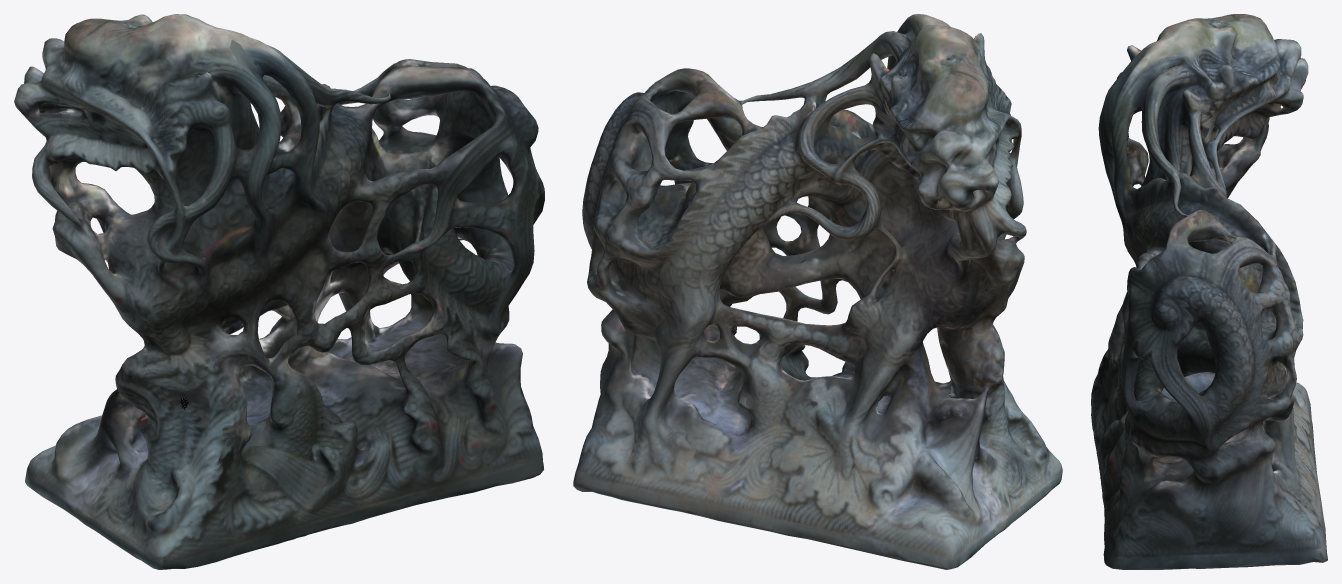
3 renders of one model, left to right at view 1: azimuth 30°, elevation 25°; view 2: azimuth 150°, elevation 25°; view 3: azimuth 270°, elevation 25°, orthographic. The views are drawn at different scales.
Visible parts, largest first — view 1: dragon2_LOW15K_b; view 2: dragon2_LOW15K_b; view 3: dragon2_LOW15K_b.
Boxes of the visible parts, <box> form: dragon2_LOW15K_b: <box>14,14,544,569</box>; dragon2_LOW15K_b: <box>573,14,1062,569</box>; dragon2_LOW15K_b: <box>1091,14,1327,569</box>.
Bounding box in the file's own units: 14.41 × 14.67 × 7.57.
Materials: 1 (1 with a texture image).
